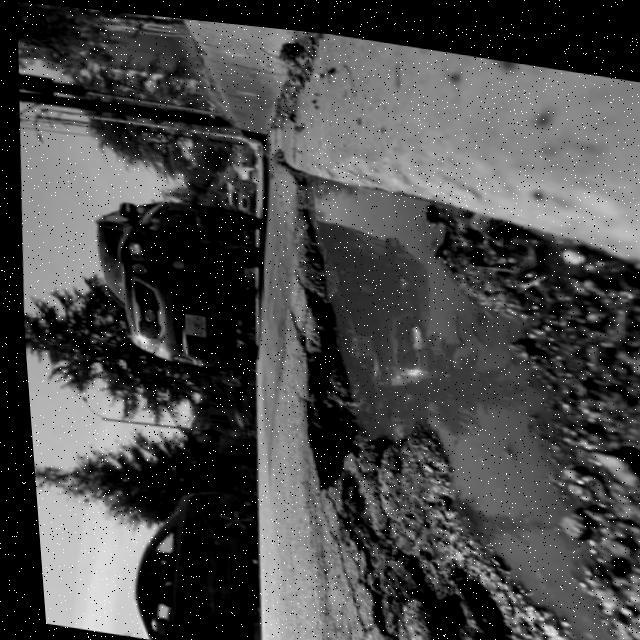pothole: (248, 151, 640, 640)
